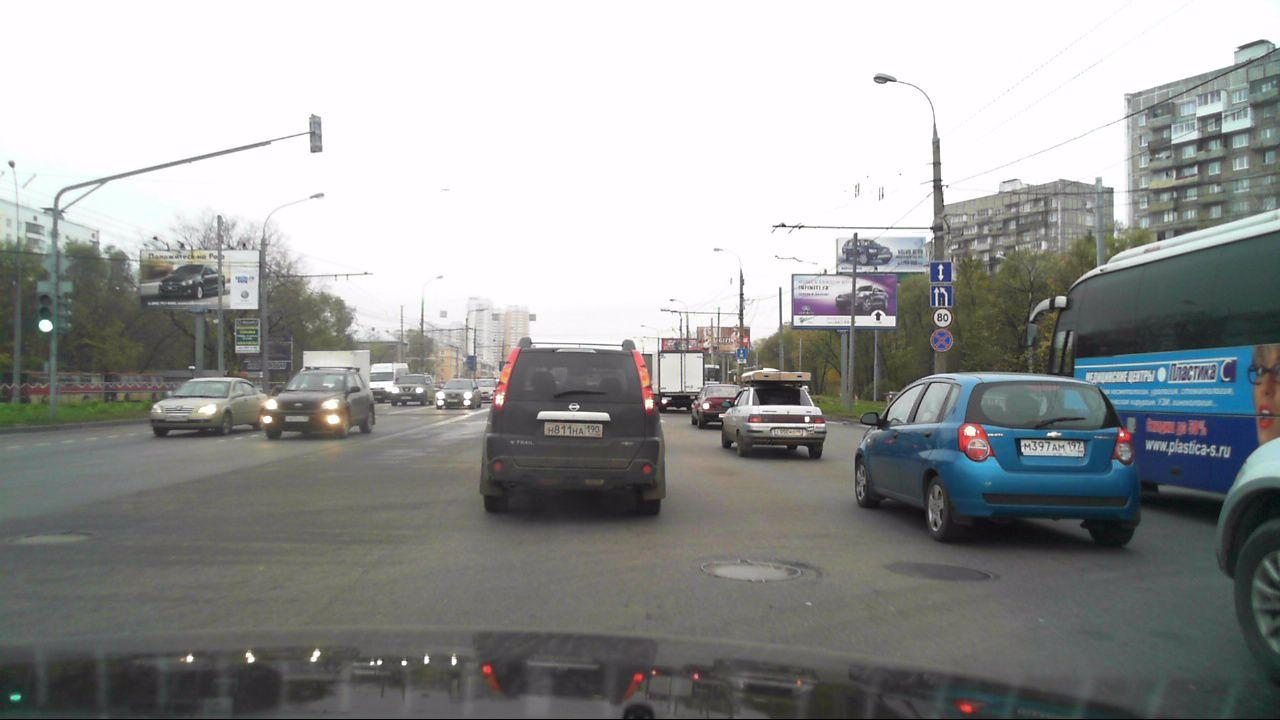3_24: (933, 309, 954, 328)
3_27: (930, 329, 953, 352)
5_14_1: (736, 348, 746, 358)
5_15_5: (930, 286, 954, 308)
5_8: (929, 261, 952, 284)
8_5_2: (737, 359, 747, 364)
